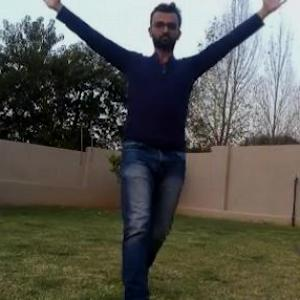takeoff: (59, 0, 267, 299)
